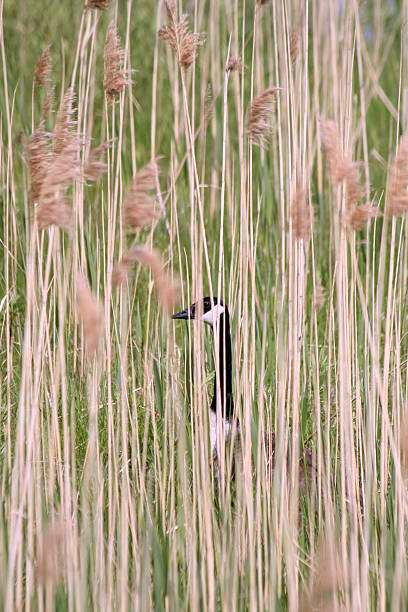goose: (168, 294, 334, 532)
